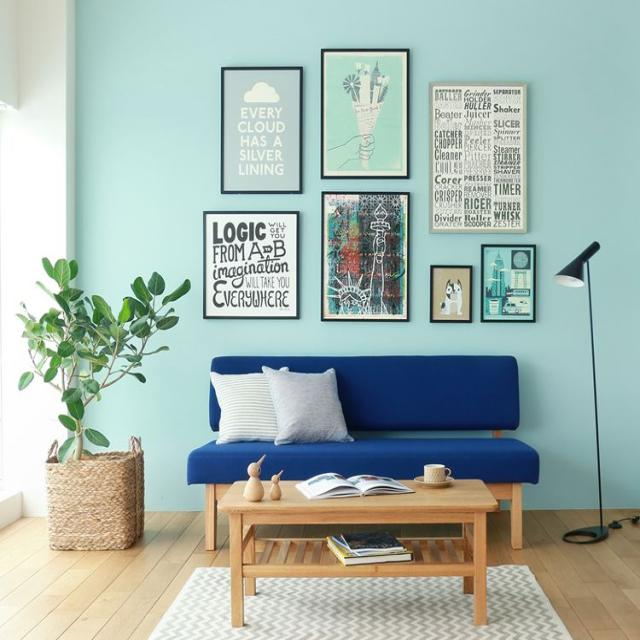modern desk: (213, 476, 498, 630)
modern sofa: (195, 346, 536, 548)
